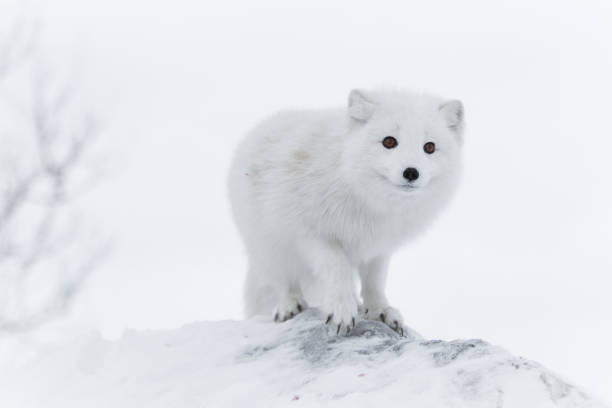arcticfox: (354, 86, 459, 205)
